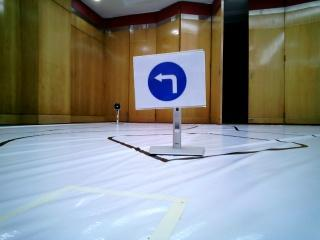left: (135, 58, 205, 107)
